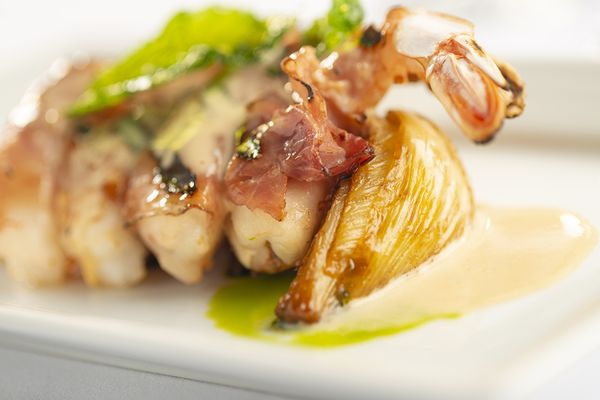curry: (68, 8, 286, 125)
